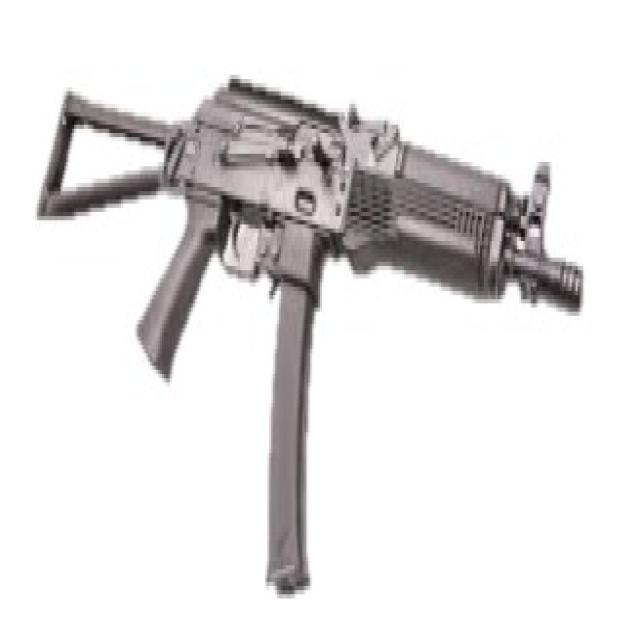rifle: (35, 62, 593, 606)
